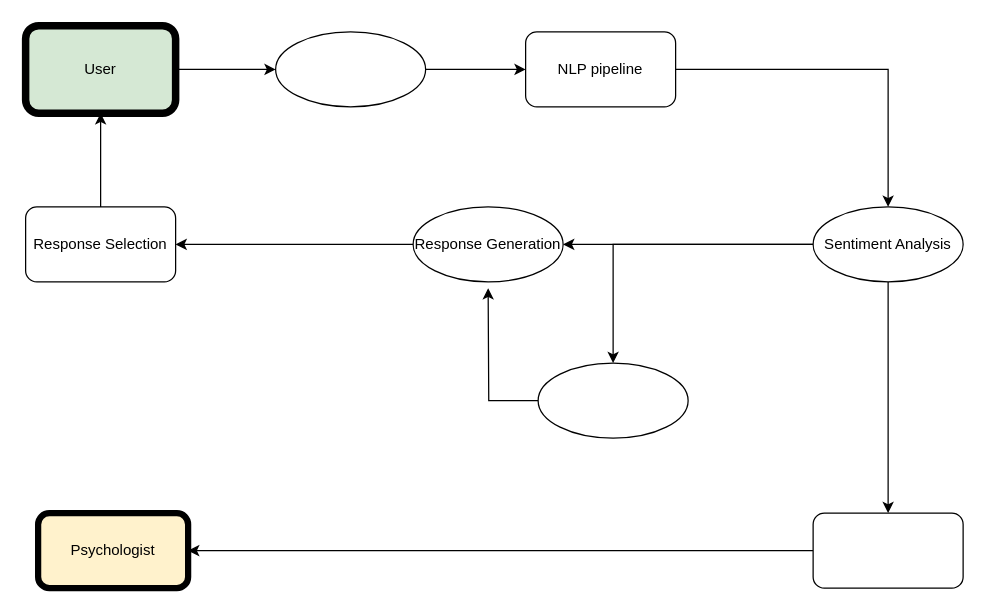
The diagram is 985 pixels wide and 613 high, and some of its shapes have lost their labels. The shapes that lost their labels are listed below. From the top down, each one's centre as x and y in pixels, then its label:
pixel 350 69: Bot interface
pixel 612 400: Resource Recomendation
pixel 887 550: Report Generation
